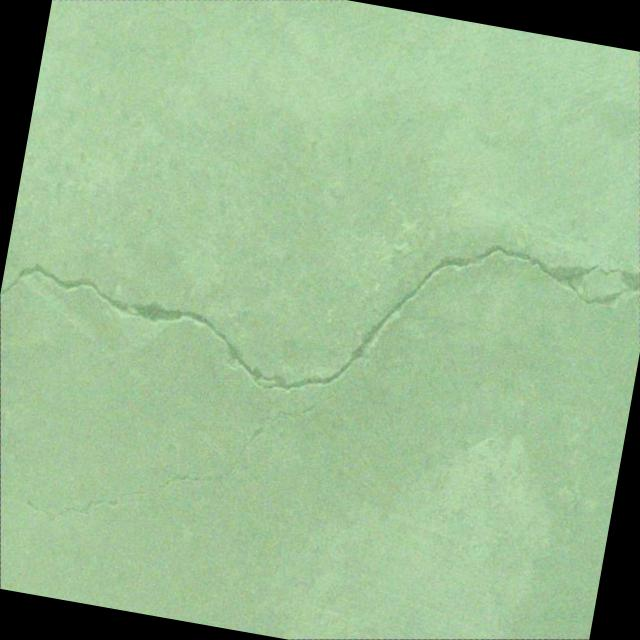crack: (0, 136, 640, 499), (0, 337, 355, 578)
